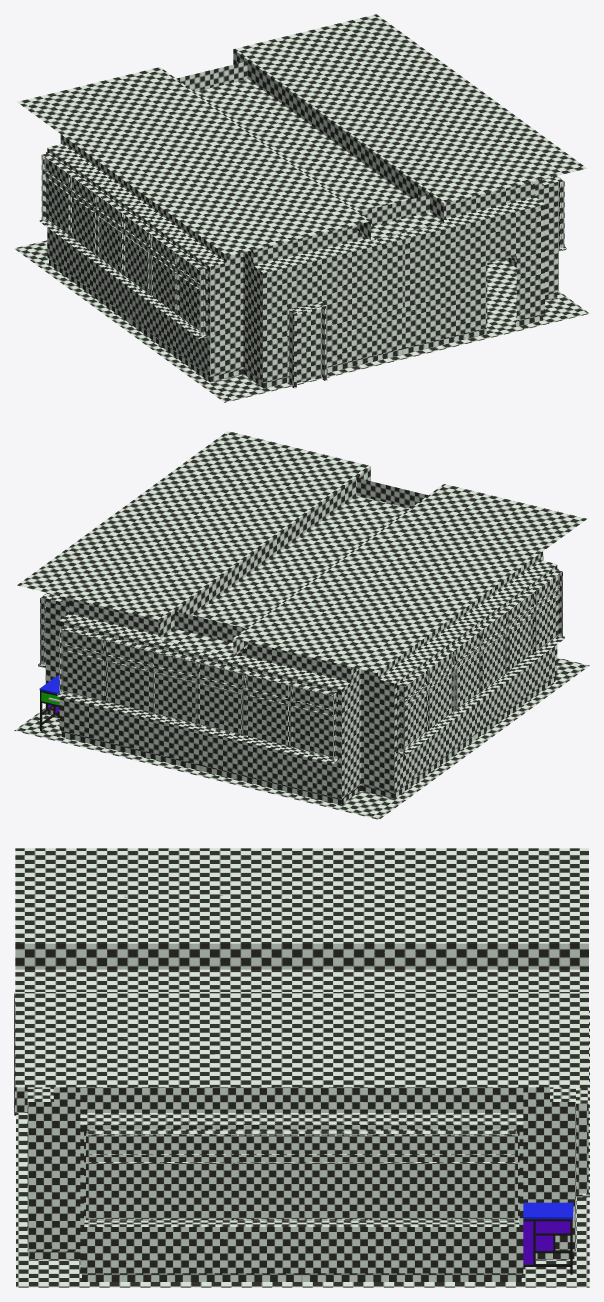
Rendered from VR_Test_Room_v3.FBX.
The picture shows the model from 3 angles, top to bottom: view 1: azimuth 30°, elevation 25°; view 2: azimuth 150°, elevation 25°; view 3: azimuth 270°, elevation 25°; orthographic projection. The views are drawn at different scales.
Parts seen in each view (by area): view 1: Ceiling_001, Wall_Door_001, Wall_Door_002, Wall_002, Floor_10x10m, Wall_001, Window_Glass_002, Window_Glass_001, Wall_006, Window_Frame_002, Window_Frame_001, Door_001 (+3 smaller); view 2: Ceiling_001, Wall_003, Wall_001, Wall_004, Window_Glass_004, Window_Glass_003, Wall_002, Floor_10x10m, Window_Glass_002, Window_Glass_001, Window_Frame_004, Window_Frame_003 (+6 smaller); view 3: Ceiling_001, Wall_005, Wall_006, Window_Glass_005, Window_Glass_006, Wall_Door_002, Floor_10x10m, Wall_004, Window_Frame_006, Window_Frame_005, Work_Bench_005.
Part boxes in pixels (x1,y1,x2,y2): Ceiling_001: (17,14,586,255); Wall_Door_001: (243,203,403,388); Wall_Door_002: (394,181,544,354); Wall_002: (121,196,243,382); Floor_10x10m: (14,240,589,402); Wall_001: (41,136,145,322); Window_Glass_002: (124,216,203,334); Window_Glass_001: (45,158,124,275); Wall_006: (504,176,564,300); Window_Frame_002: (120,211,208,338); Window_Frame_001: (39,152,126,280); Door_001: (297,309,321,382); Ceiling_001: (17,431,586,672); Wall_003: (196,620,360,804); Wall_001: (361,613,483,798); Wall_004: (59,598,210,770); Window_Glass_004: (61,629,198,724); Window_Glass_003: (198,662,335,758); Wall_002: (459,553,562,739); Floor_10x10m: (14,657,589,819); Window_Glass_002: (480,575,559,692); Window_Glass_001: (401,633,480,750); Window_Frame_004: (57,625,198,729); Window_Frame_003: (196,658,339,763); Ceiling_001: (15,848,588,1087); Wall_005: (302,1087,523,1281); Wall_006: (80,1087,301,1281); Window_Glass_005: (302,1133,517,1220); Window_Glass_006: (86,1133,301,1220); Wall_Door_002: (27,1087,80,1259); Floor_10x10m: (16,1113,589,1287); Wall_004: (523,1087,588,1259); Window_Frame_006: (84,1129,301,1226); Window_Frame_005: (302,1129,519,1226); Work_Bench_005: (522,1202,573,1274).
Bounding box in the file's own units: 10.04 × 3.88 × 10.04.
8 materials, 1 textured.
